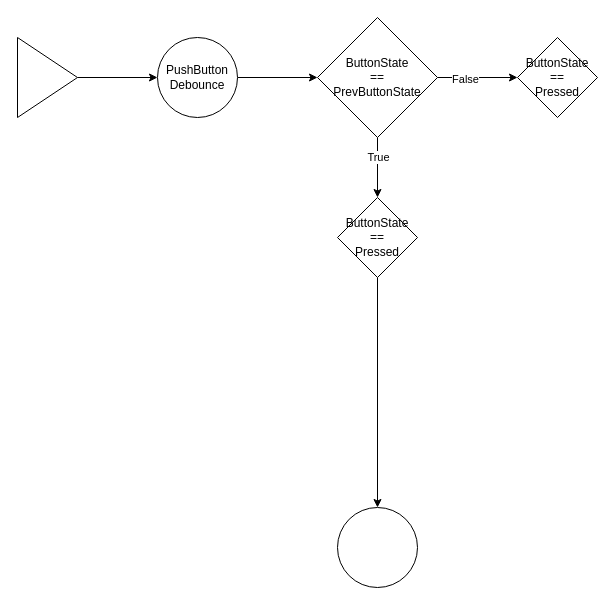
Some shapes in this 615 by 605 pixel diagram are drawn without their labels. The centre of each missing label's shape, as x and y in pixels:
"return" belongs at pixel 377 547.
"Run" belongs at pixel 47 77.
